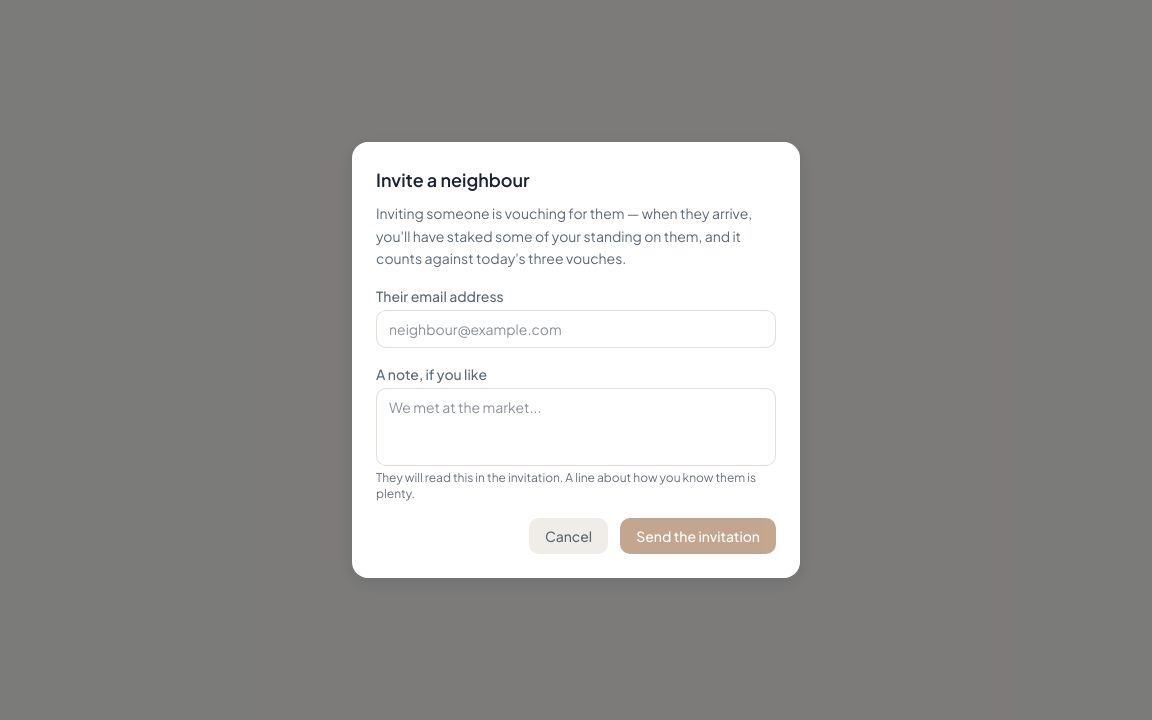
Test case: InviteDialog after sending › asks the sender to pass the link on when the email did not go
This screenshot has width=1152, height=720.
Type "newcomer@example.com" into the field labelled "Their email address" at [576, 329], box 376,310 -> 776,348
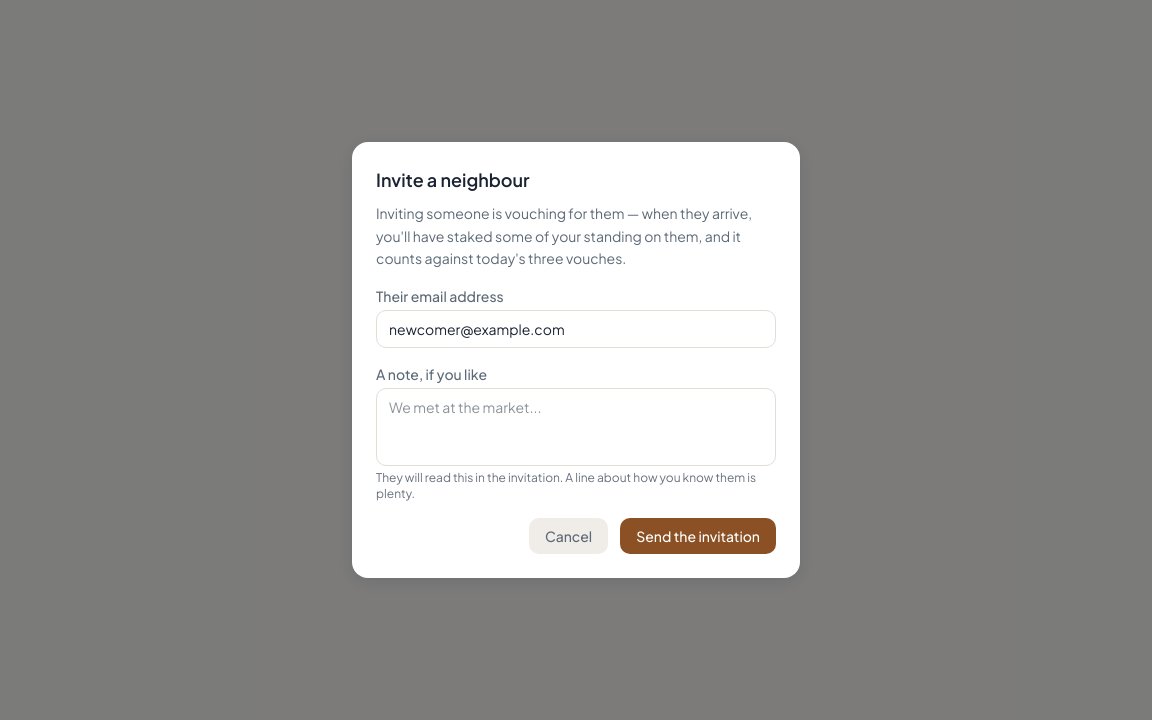
Click the button "Send the invitation" at [698, 536], box 620,518 -> 776,554
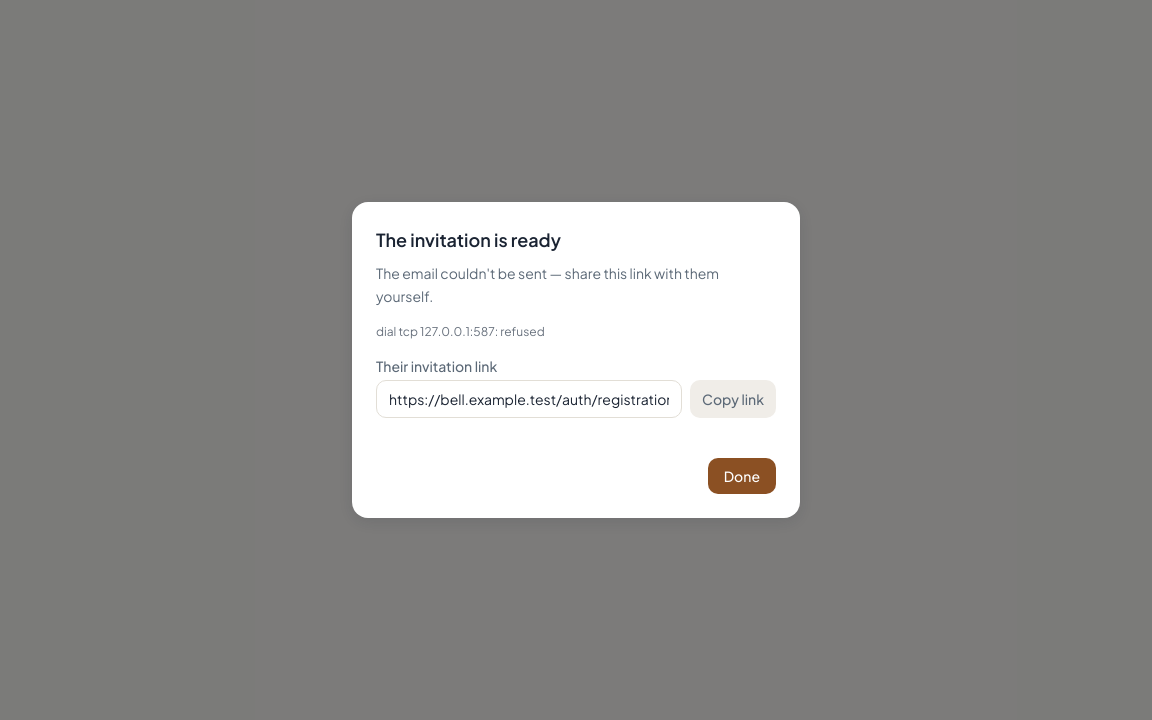
Expected: the text "The email couldn't be sent — share this link with them yourself." is shown, 376,262 -> 776,308
Expected: the text "dial tcp 127.0.0.1:587: refused" is shown, 376,324 -> 545,339
